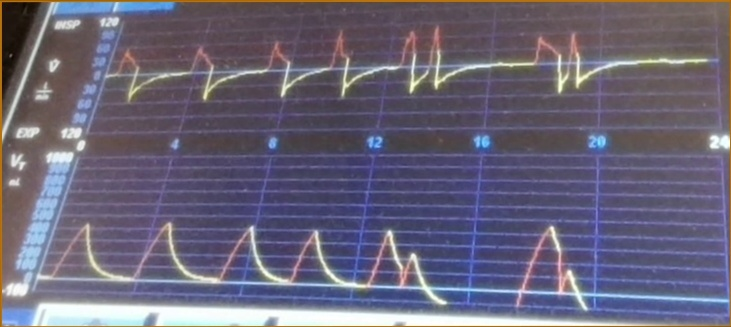Double_Triggering Flow: (113, 23, 610, 116)
Double_Triggering Volume: (52, 213, 608, 304)
